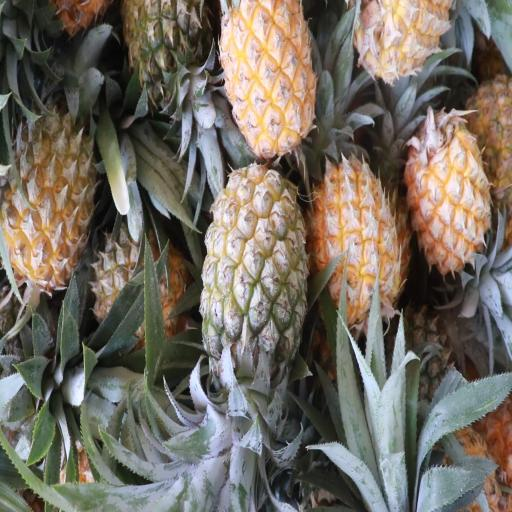------------------------------: (201, 166, 306, 386), (92, 214, 188, 341)
Pineapple - v8 v1: (0, 105, 96, 283), (315, 162, 402, 329), (220, 3, 317, 152), (406, 110, 491, 280)
